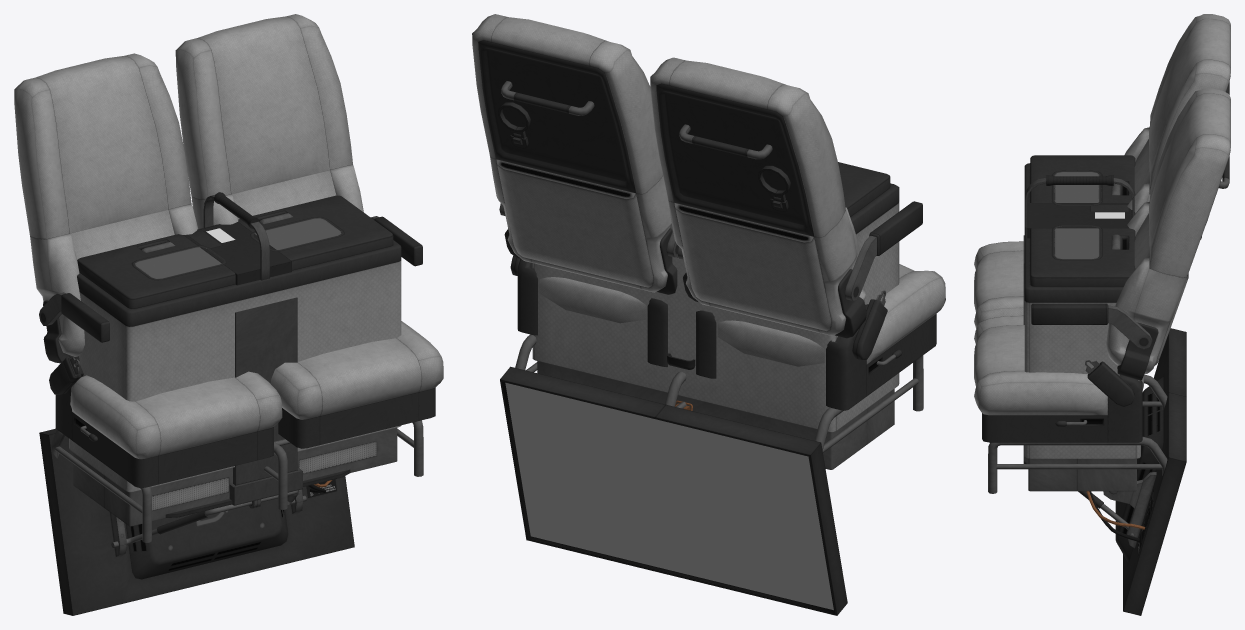
The model's file is bussasset_mesh.dae.
3 renders of one model, left to right at view 1: azimuth 30°, elevation 25°; view 2: azimuth 150°, elevation 25°; view 3: azimuth 270°, elevation 25°, orthographic. The views are drawn at different scales.
Visible parts, largest first — view 1: lncoach_seats_2row_base_supless, busasset_fridge_01a, busasset_tv_01a, busasset_payment_cash_LHD, lncoach_seats_2row_base, lncoach_seats_2row_armrest, busasset_payment_cash_base, busasset_doormotor_01a; view 2: lncoach_seats_2row_base_supless, busasset_tv_01a, busasset_fridge_01a, lncoach_seats_2row_armrest, lncoach_seats_2row_base, lncoach_seats_2row_seatbelt_R; view 3: lncoach_seats_2row_base_supless, busasset_fridge_01a, busasset_tv_01a, busasset_payment_cash_LHD, lncoach_seats_2row_base, lncoach_seats_2row_armrest, lncoach_seats_2row_seatbelt_L, lncoach_seats_2row_seatbelt_R.
Boxes of the visible parts, left/top/right/bottom form: lncoach_seats_2row_base_supless: left=14, top=14, right=443, bottom=488; busasset_fridge_01a: left=69, top=195, right=401, bottom=526; busasset_tv_01a: left=39, top=428, right=354, bottom=615; busasset_payment_cash_LHD: left=183, top=192, right=297, bottom=485; lncoach_seats_2row_base: left=51, top=420, right=423, bottom=542; lncoach_seats_2row_armrest: left=39, top=216, right=422, bottom=342; busasset_payment_cash_base: left=229, top=468, right=302, bottom=505; busasset_doormotor_01a: left=165, top=469, right=350, bottom=517; lncoach_seats_2row_base_supless: left=472, top=14, right=945, bottom=410; busasset_tv_01a: left=500, top=366, right=847, bottom=615; busasset_fridge_01a: left=532, top=162, right=899, bottom=469; lncoach_seats_2row_armrest: left=499, top=201, right=922, bottom=300; lncoach_seats_2row_base: left=515, top=334, right=923, bottom=452; lncoach_seats_2row_seatbelt_R: left=512, top=258, right=884, bottom=359; lncoach_seats_2row_base_supless: left=974, top=14, right=1230, bottom=442; busasset_fridge_01a: left=1024, top=155, right=1140, bottom=491; busasset_tv_01a: left=1078, top=328, right=1186, bottom=615; busasset_payment_cash_LHD: left=1023, top=175, right=1134, bottom=324; lncoach_seats_2row_base: left=988, top=346, right=1167, bottom=493; lncoach_seats_2row_armrest: left=1031, top=303, right=1152, bottom=349; lncoach_seats_2row_seatbelt_L: left=1093, top=367, right=1134, bottom=406; lncoach_seats_2row_seatbelt_R: left=1085, top=360, right=1134, bottom=395.
Size of the model in its own units: 0.9384 by 0.6857 by 1.4.
9 materials, 6 textured.
